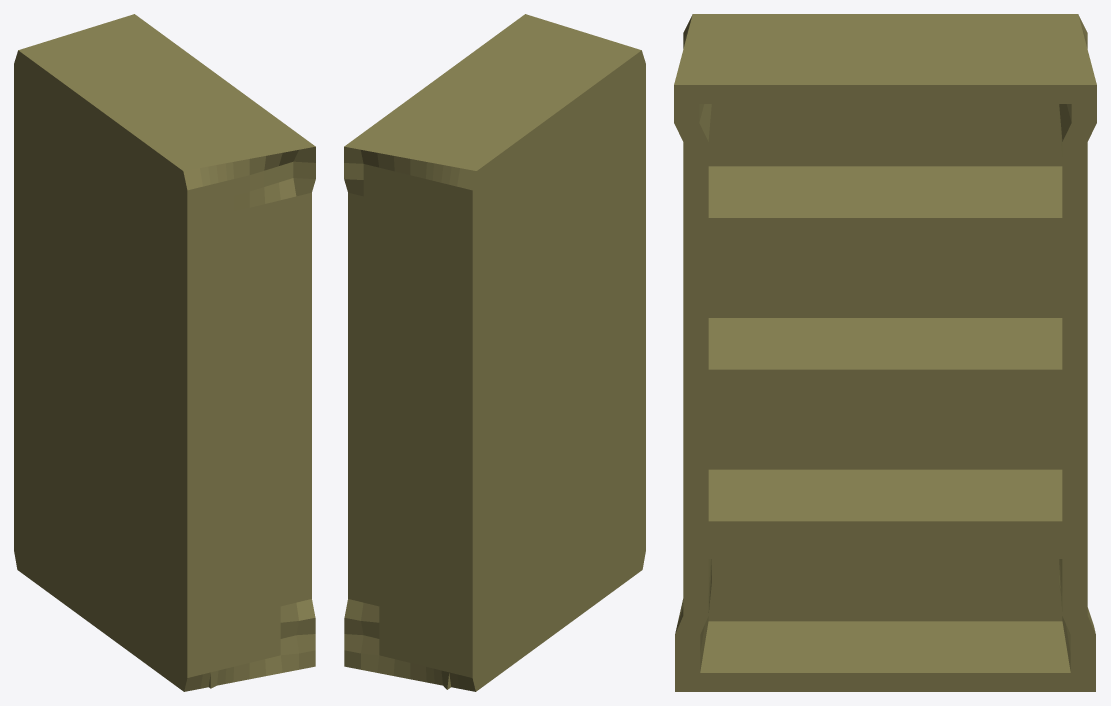
The model's file is szafka.fbx.
3 renders of one model, left to right at view 1: azimuth 30°, elevation 25°; view 2: azimuth 150°, elevation 25°; view 3: azimuth 270°, elevation 25°, orthographic. The views are drawn at different scales.
Parts seen in each view (by area): view 1: Cube.001; view 2: Cube.001; view 3: Cube.001.
Boxes of the visible parts, x1,y1,x2,y2 form: Cube.001: (14,14,315,691); Cube.001: (344,14,645,691); Cube.001: (674,14,1096,691).
Bounding box in the file's own units: 400 × 1597 × 1008.
